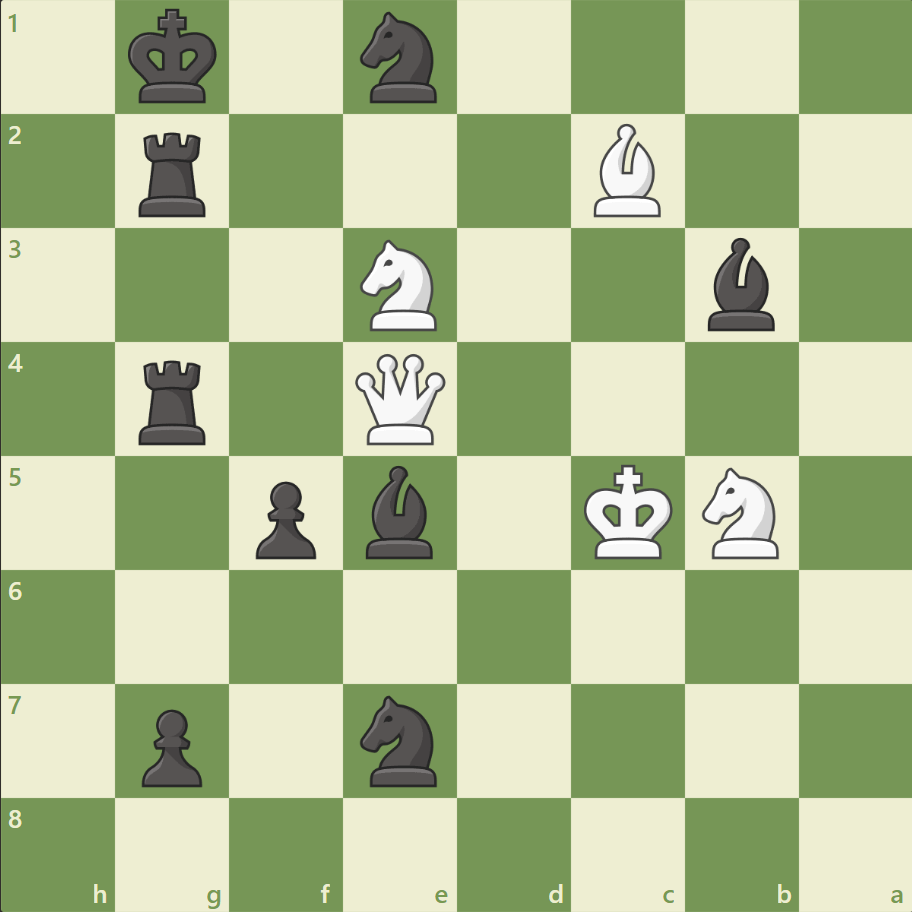B: (585, 120, 669, 222)
K: (579, 458, 679, 566)
N: (351, 234, 449, 337), (692, 461, 789, 564)
Q: (351, 349, 450, 449)
b: (358, 460, 442, 563), (698, 233, 782, 336)
k: (124, 4, 224, 112)
n: (351, 688, 449, 791), (351, 7, 449, 110)
p: (133, 700, 208, 791), (247, 473, 322, 564)
r: (133, 352, 215, 449), (133, 125, 215, 222)
